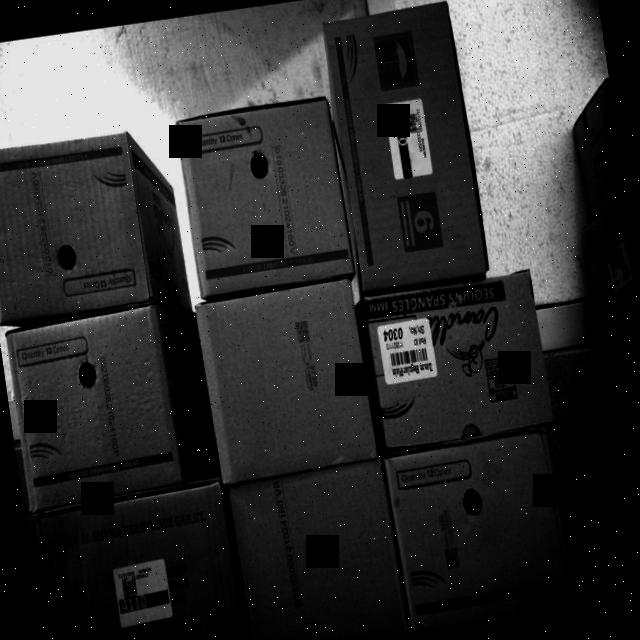box: (321, 0, 488, 288), (194, 278, 380, 482), (384, 435, 573, 630), (4, 303, 185, 503), (177, 96, 351, 294), (34, 485, 248, 640), (228, 460, 411, 640), (364, 272, 554, 442), (0, 126, 155, 320)
